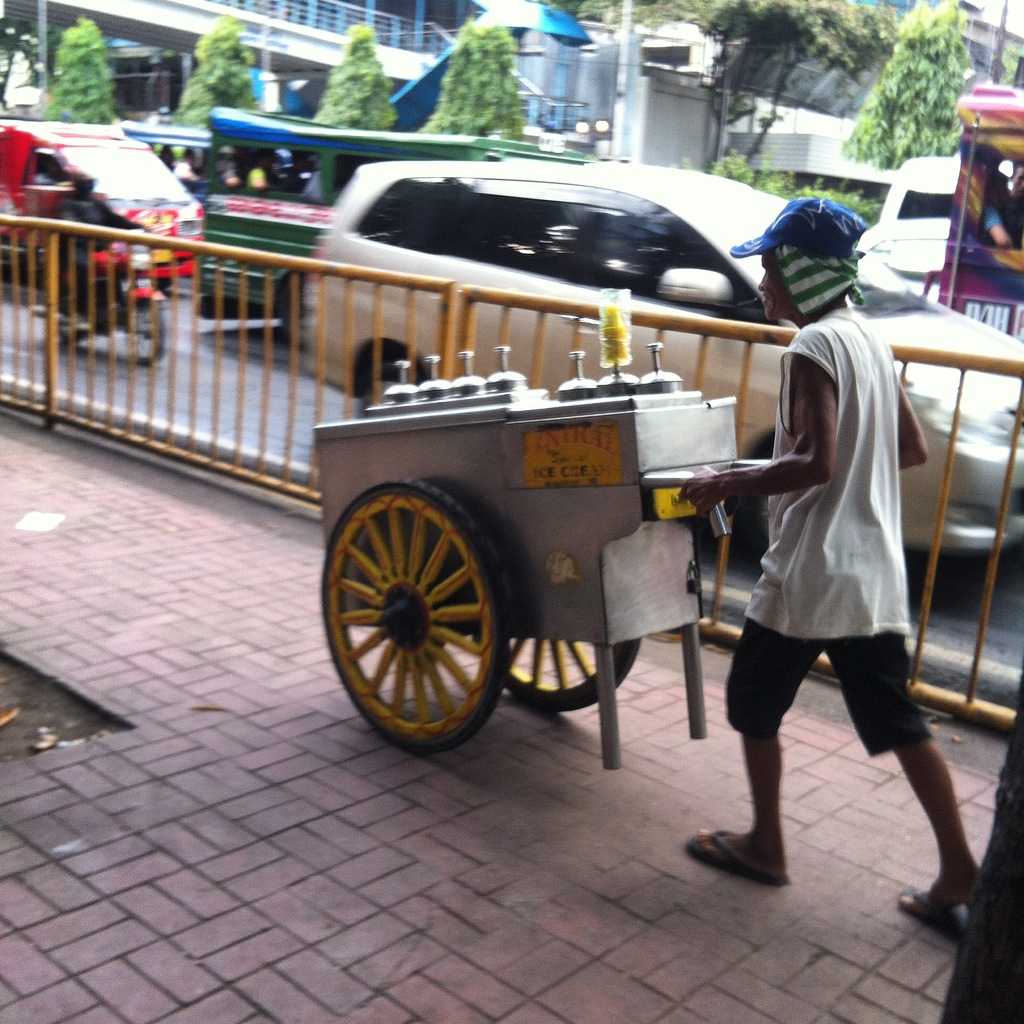cart: (295, 332, 716, 779)
person: (720, 201, 977, 916)
tree: (896, 5, 958, 153)
